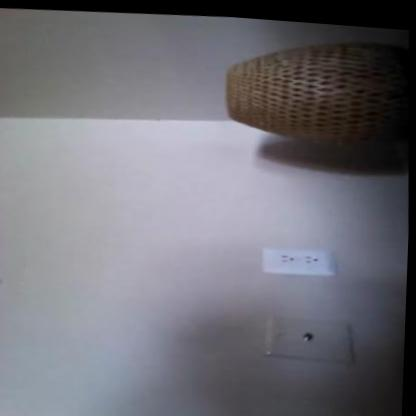OUTLET: (260, 244, 338, 279)
